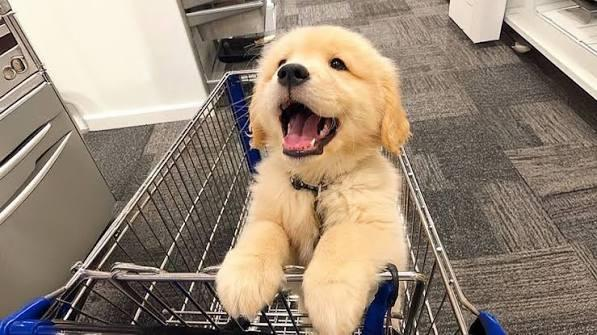puppy-dog: (211, 22, 418, 331)
